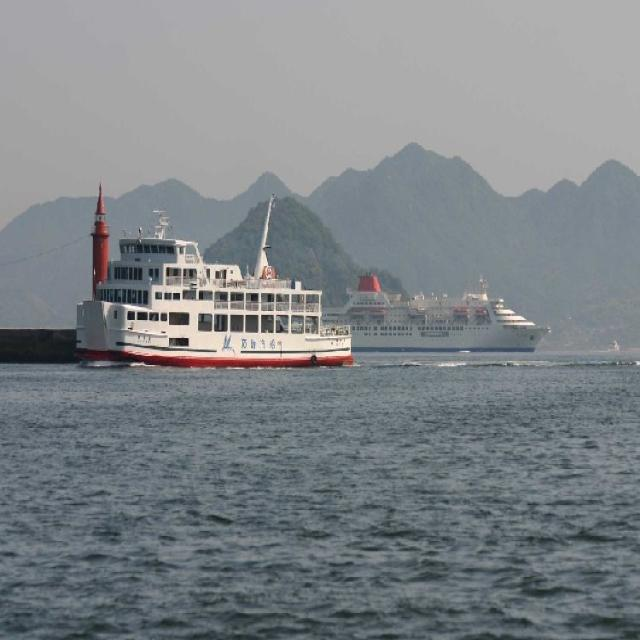passenger ship: (67, 198, 353, 382), (329, 228, 556, 362)
